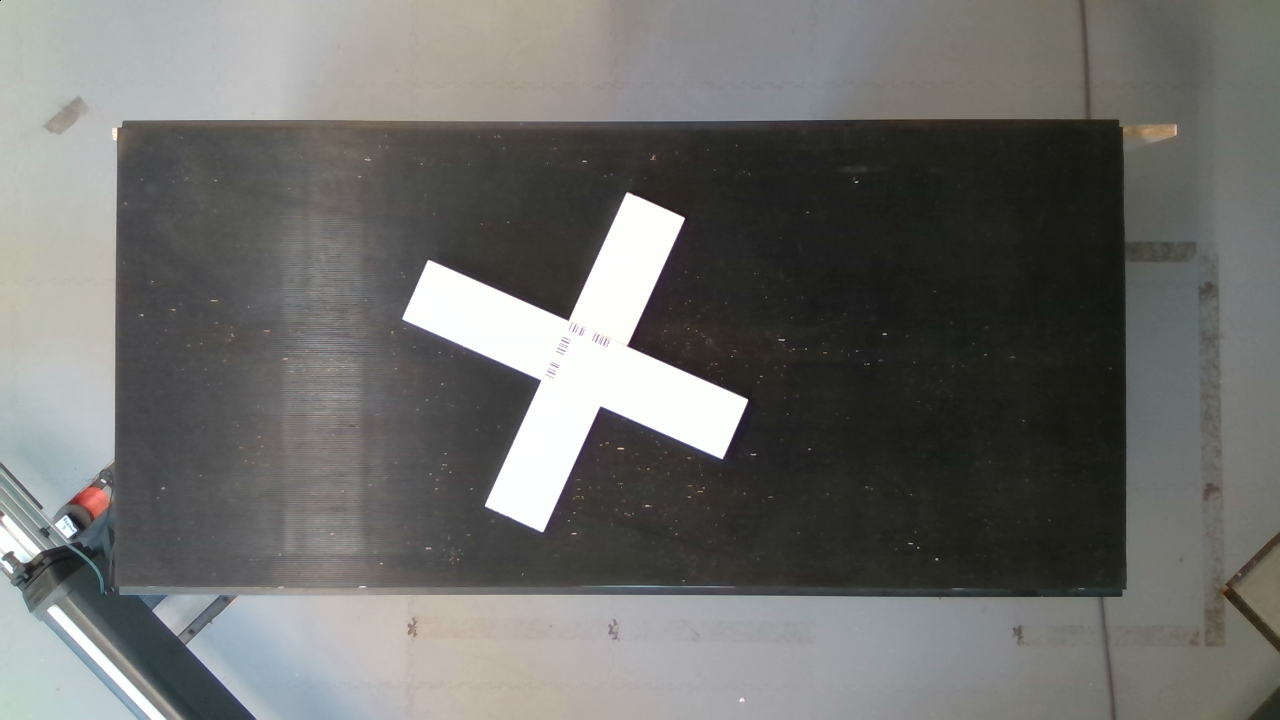barcode: (544, 309, 629, 404)
part1: (484, 172, 698, 550), (397, 255, 757, 465)
